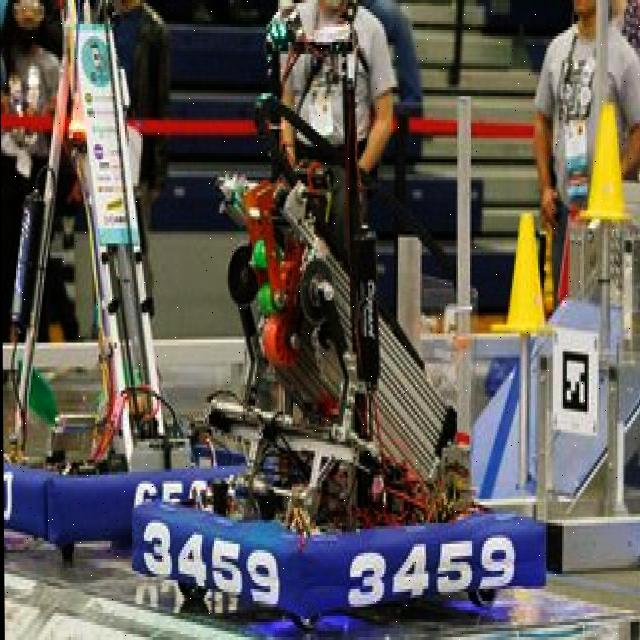robot: (134, 145, 518, 621), (9, 19, 234, 547)
